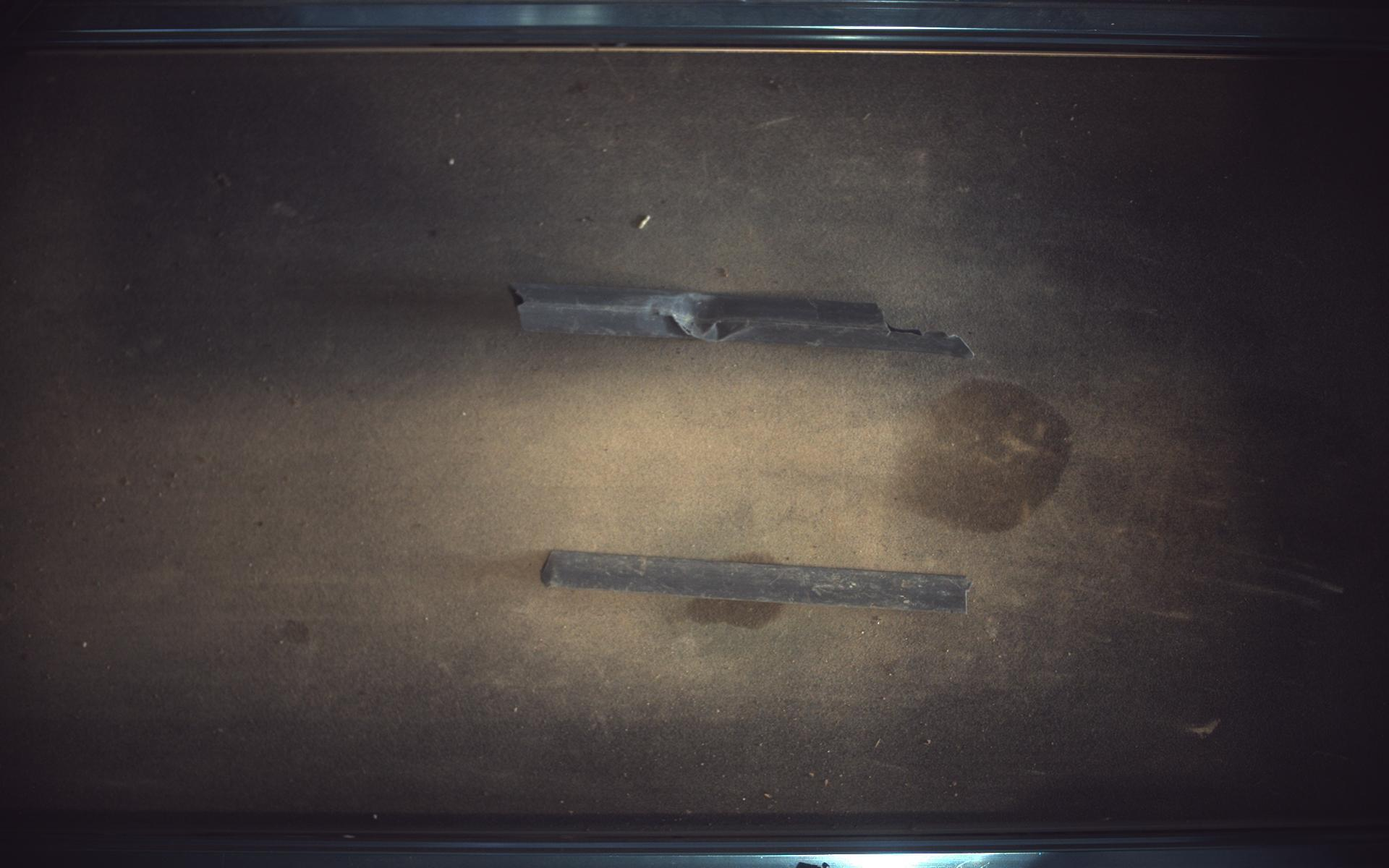plastic: (511, 283, 973, 357), (542, 550, 973, 614)
